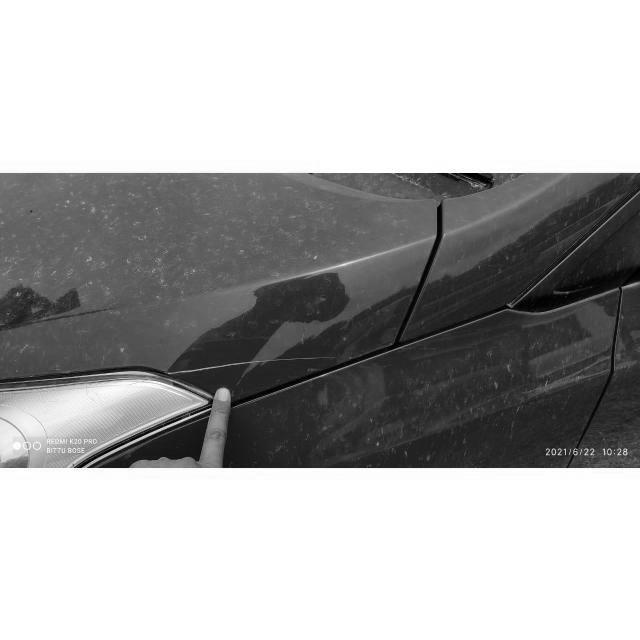bonnet-dent: (1, 175, 355, 387)
